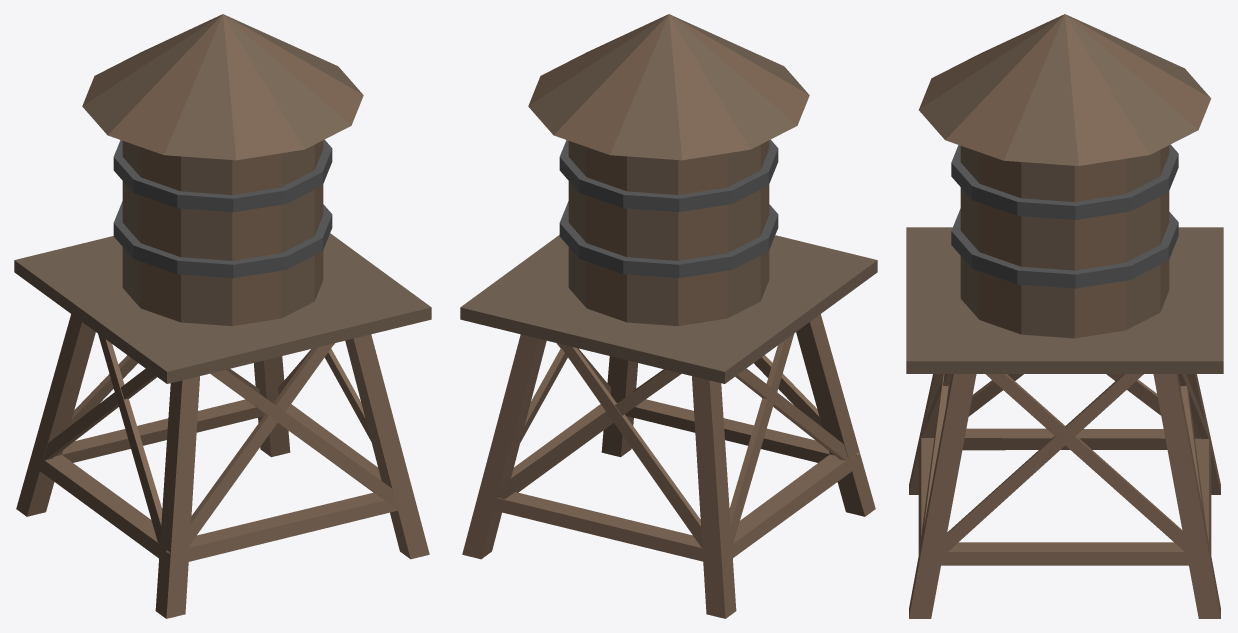
Rendered from water_tank.fbx.
3 renders of one model, left to right at view 1: azimuth 30°, elevation 25°; view 2: azimuth 150°, elevation 25°; view 3: azimuth 270°, elevation 25°, orthographic. The views are drawn at different scales.
Visible parts, largest first — view 1: water_tank; view 2: water_tank; view 3: water_tank.
Boxes of the visible parts, x1,y1,x2,y2 form: water_tank: (14,14,431,618); water_tank: (460,14,877,618); water_tank: (906,14,1223,618).
Size of the model in its own units: 2.27 by 2.27 by 4.25.
